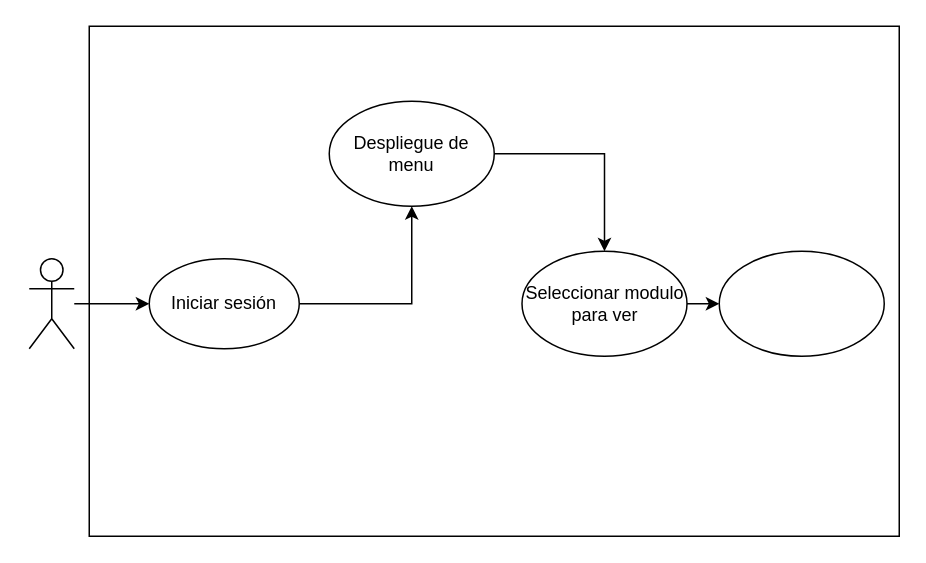
Image size: 926x563. Some labels were removed from this diagram. The box of each missing label's shape, as (x1, y1, x2, y2) in pixels:
Admin: (28, 257, 74, 349)
Ver registro de humedad del modulo: (718, 250, 884, 356)
